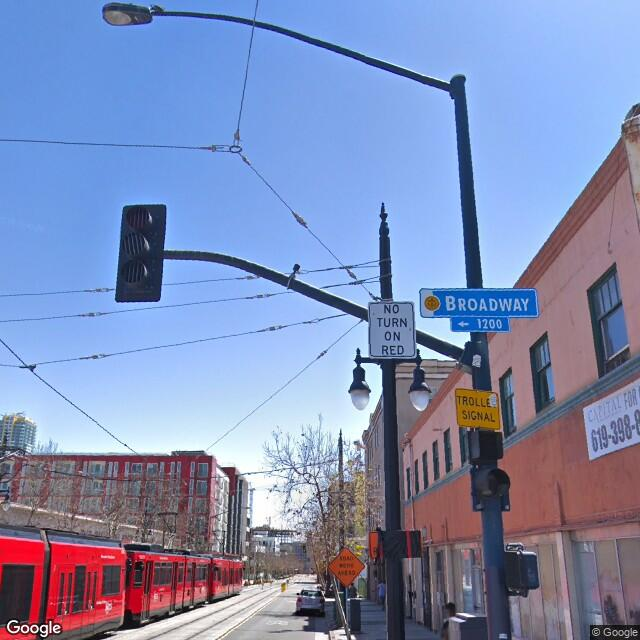light: (98, 3, 161, 27), (411, 372, 433, 414), (349, 380, 368, 416)
window: (586, 269, 635, 373), (573, 541, 622, 622), (527, 339, 559, 410), (495, 372, 517, 434)
